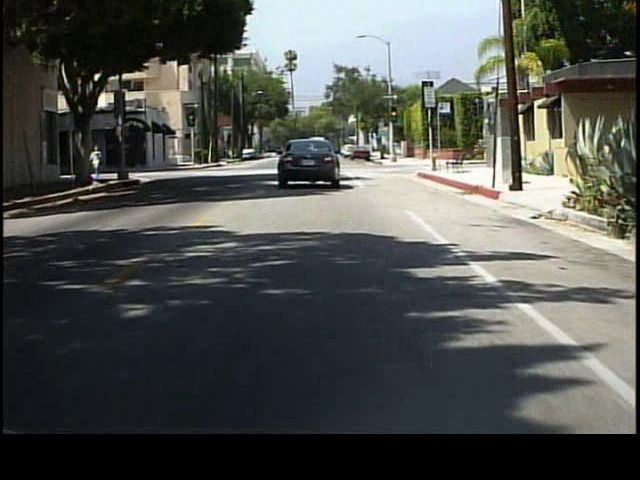person: (90, 142, 104, 183)
